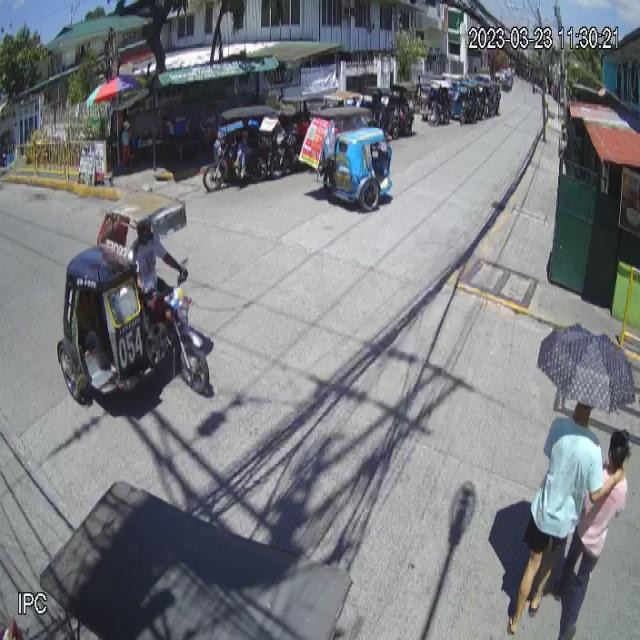Tricycle: (57, 190, 211, 411), (310, 106, 394, 210)
